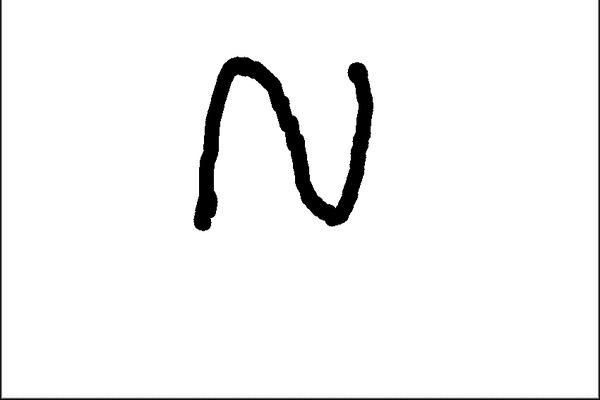N: (188, 52, 379, 236)
